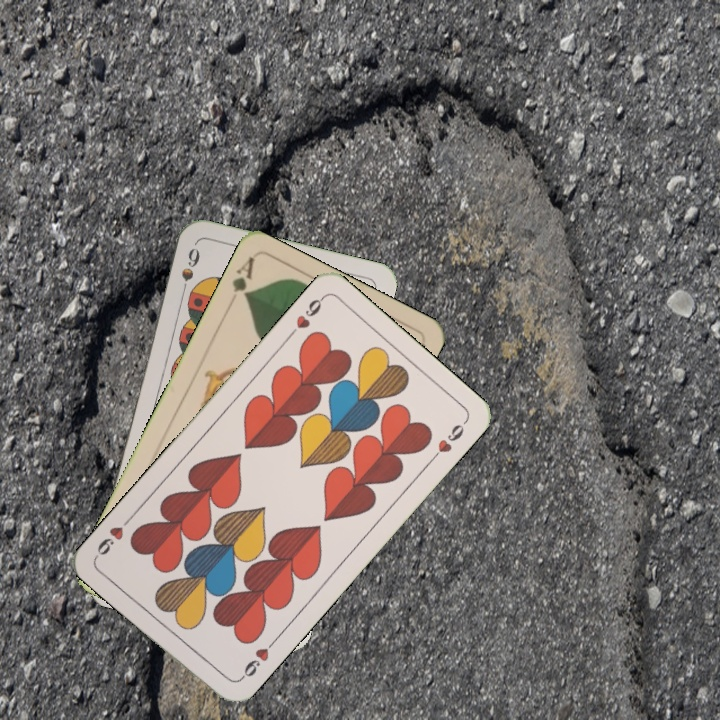GA: (227, 253, 257, 301)
H9: (235, 636, 279, 684), (284, 292, 327, 341)
S9: (177, 244, 203, 301)
